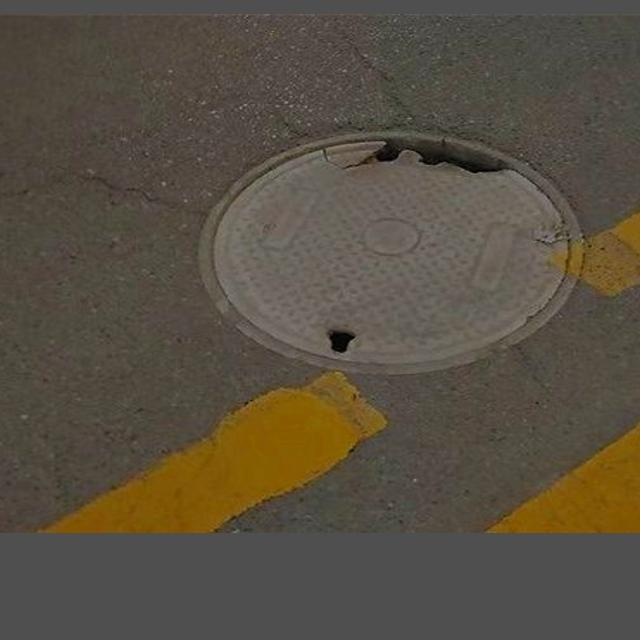broke: (187, 117, 591, 379)
